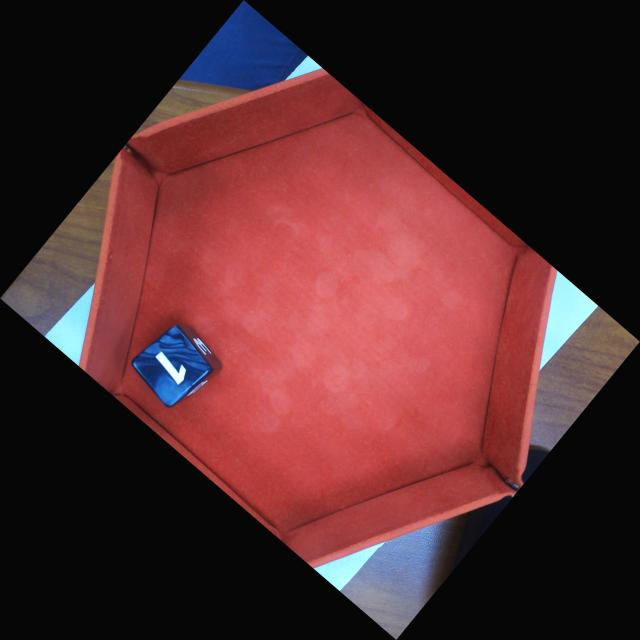dice: (135, 324, 211, 404)
